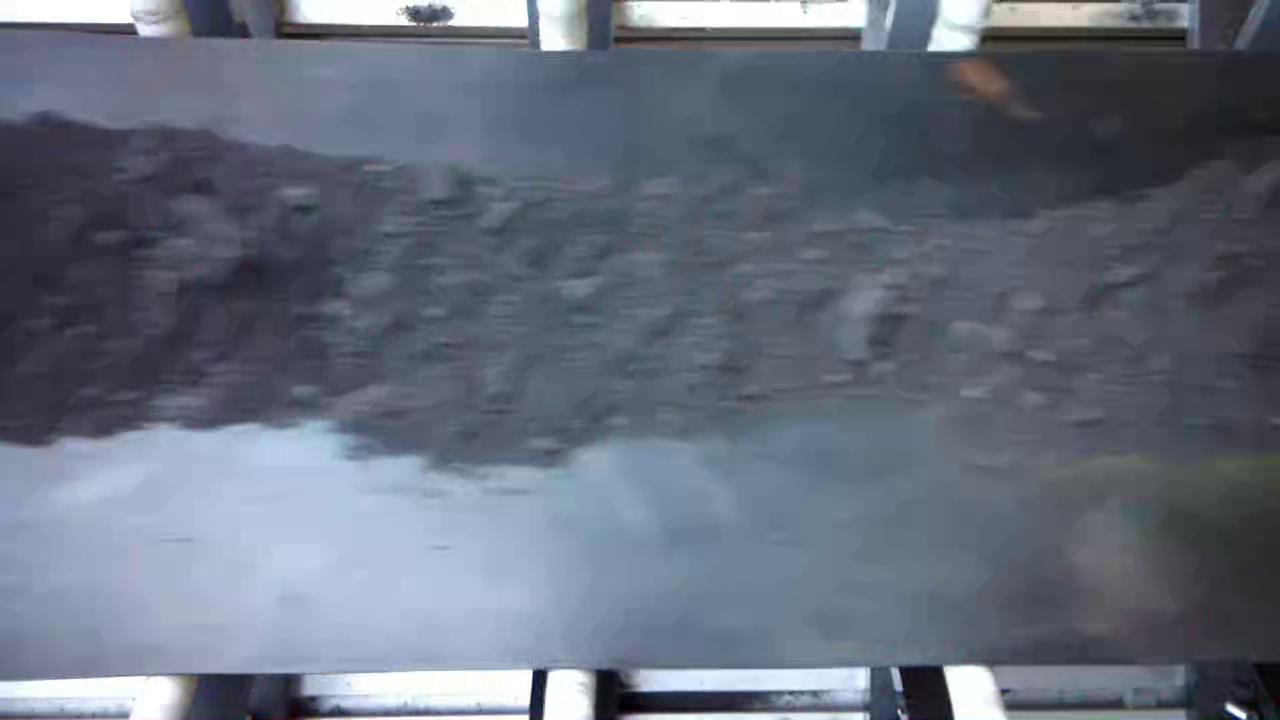conveyor: (13, 55, 1280, 660)
